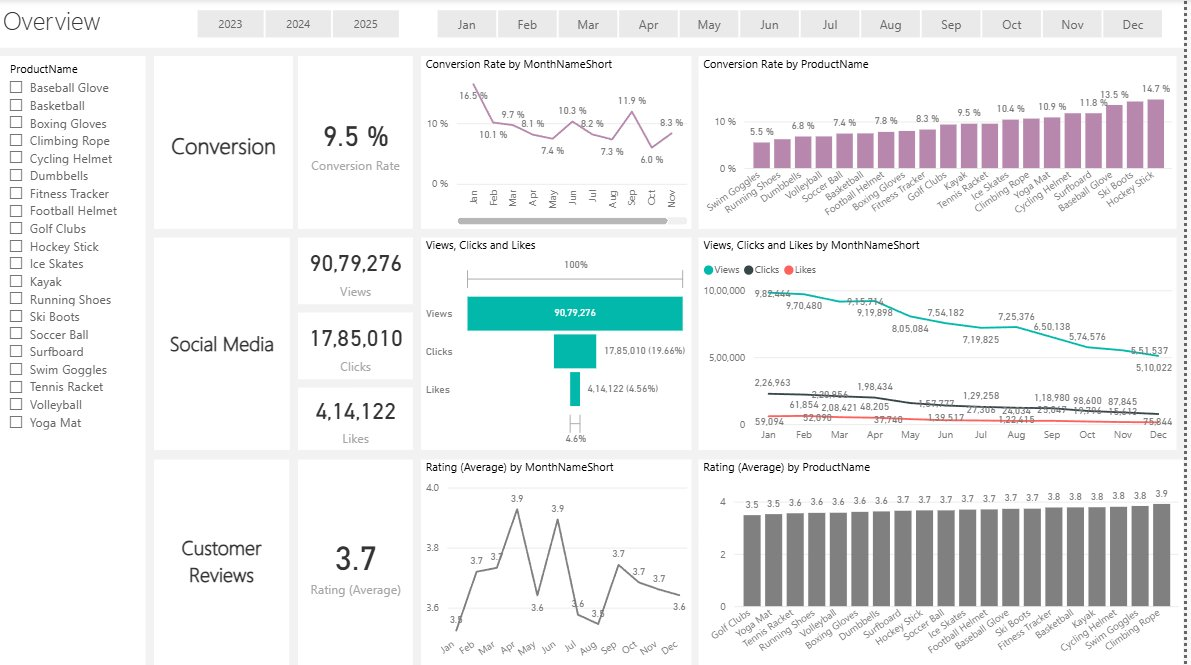

The dashboard page shown, as its layout file describes it:
{"tool":"powerbi","page":{"name":"Overview","canvas":[1280,720],"ordinal":0},"visuals":[{"type":"textbox","box":[0,0,1280,52.6],"z":0},{"type":"slicer","fields":{"Values":["dim_products.ProductName"]},"box":[0,61.6,159.5,658.5],"z":1000},{"type":"card","fields":{"Values":["_Calculations.Conversion Rate"]},"box":[324.1,61.9,123.9,186.8],"z":2000},{"type":"card","fields":{"Values":["_Calculations.Rating (Average)"]},"box":[324.1,496.5,123.9,224],"z":3000},{"type":"lineChart","fields":{"Y":["_Calculations.Conversion Rate"],"Category":["Calendar.MonthNameShort"]},"box":[457.1,61.9,292.3,186.7],"z":4000},{"type":"columnChart","fields":{"Category":["dim_products.ProductName"],"Y":["_Calculations.Conversion Rate"]},"box":[756.7,61.9,516.3,186.7],"z":5000},{"type":"slicer","fields":{"Values":["Calendar.Year"]},"box":[189.4,4.9,267.2,43.7],"z":6000},{"type":"slicer","fields":{"Values":["Calendar.MonthNameShort"]},"box":[448,4.6,832.3,43.7],"z":7000},{"type":"lineChart","fields":{"Y":["_Calculations.Views","_Calculations.Clicks","_Calculations.Likes"],"Category":["Calendar.MonthNameShort"]},"box":[756.6,258.1,516.1,229.2],"z":8000},{"type":"lineChart","fields":{"Category":["Calendar.MonthNameShort"],"Y":["_Calculations.Rating (Average)"]},"box":[457.1,496.3,292.3,224],"z":9000},{"type":"columnChart","fields":{"Category":["dim_products.ProductName"],"Y":["_Calculations.Rating (Average)"]},"box":[756.6,496.5,523.4,224],"z":10000},{"type":"funnel","fields":{"Y":["_Calculations.Views","_Calculations.Clicks","_Calculations.Likes"]},"box":[457.3,258.1,292.1,229.2],"z":11000},{"type":"card","fields":{"Values":["_Calculations.Views"]},"box":[324.2,257.7,123.8,71.9],"z":12000},{"type":"textbox","box":[168.5,61.9,150.3,186.7],"z":13000},{"type":"textbox","box":[168.5,257.7,146.6,229.5],"z":14000},{"type":"textbox","box":[168.5,496.3,145.7,224],"z":15000},{"type":"card","fields":{"Values":["_Calculations.Clicks"]},"box":[324.2,338.8,123.8,71.9],"z":16000},{"type":"card","fields":{"Values":["_Calculations.Likes"]},"box":[324.2,419.8,123.8,67.4],"z":17000}]}

Visuals, with their boxes in screenshot pixels (x1, y1, x2, y2), scaled from the page's 1280x720 canvas onto the 1191x665 screenshot:
textbox: bbox(0, 0, 1190, 49)
slicer - dim_products.ProductName: bbox(0, 57, 148, 664)
card - _Calculations.Conversion Rate: bbox(302, 57, 417, 230)
card - _Calculations.Rating (Average): bbox(302, 459, 417, 664)
lineChart - _Calculations.Conversion Rate x Calendar.MonthNameShort: bbox(425, 57, 697, 230)
columnChart - dim_products.ProductName x _Calculations.Conversion Rate: bbox(704, 57, 1184, 230)
slicer - Calendar.Year: bbox(176, 5, 425, 45)
slicer - Calendar.MonthNameShort: bbox(417, 4, 1190, 45)
lineChart - _Calculations.Views x _Calculations.Clicks: bbox(704, 238, 1184, 450)
lineChart - Calendar.MonthNameShort x _Calculations.Rating (Average): bbox(425, 458, 697, 664)
columnChart - dim_products.ProductName x _Calculations.Rating (Average): bbox(704, 459, 1190, 664)
funnel - _Calculations.Views x _Calculations.Clicks: bbox(426, 238, 697, 450)
card - _Calculations.Views: bbox(302, 238, 417, 304)
textbox: bbox(157, 57, 297, 230)
textbox: bbox(157, 238, 293, 450)
textbox: bbox(157, 458, 292, 664)
card - _Calculations.Clicks: bbox(302, 313, 417, 379)
card - _Calculations.Likes: bbox(302, 388, 417, 450)
